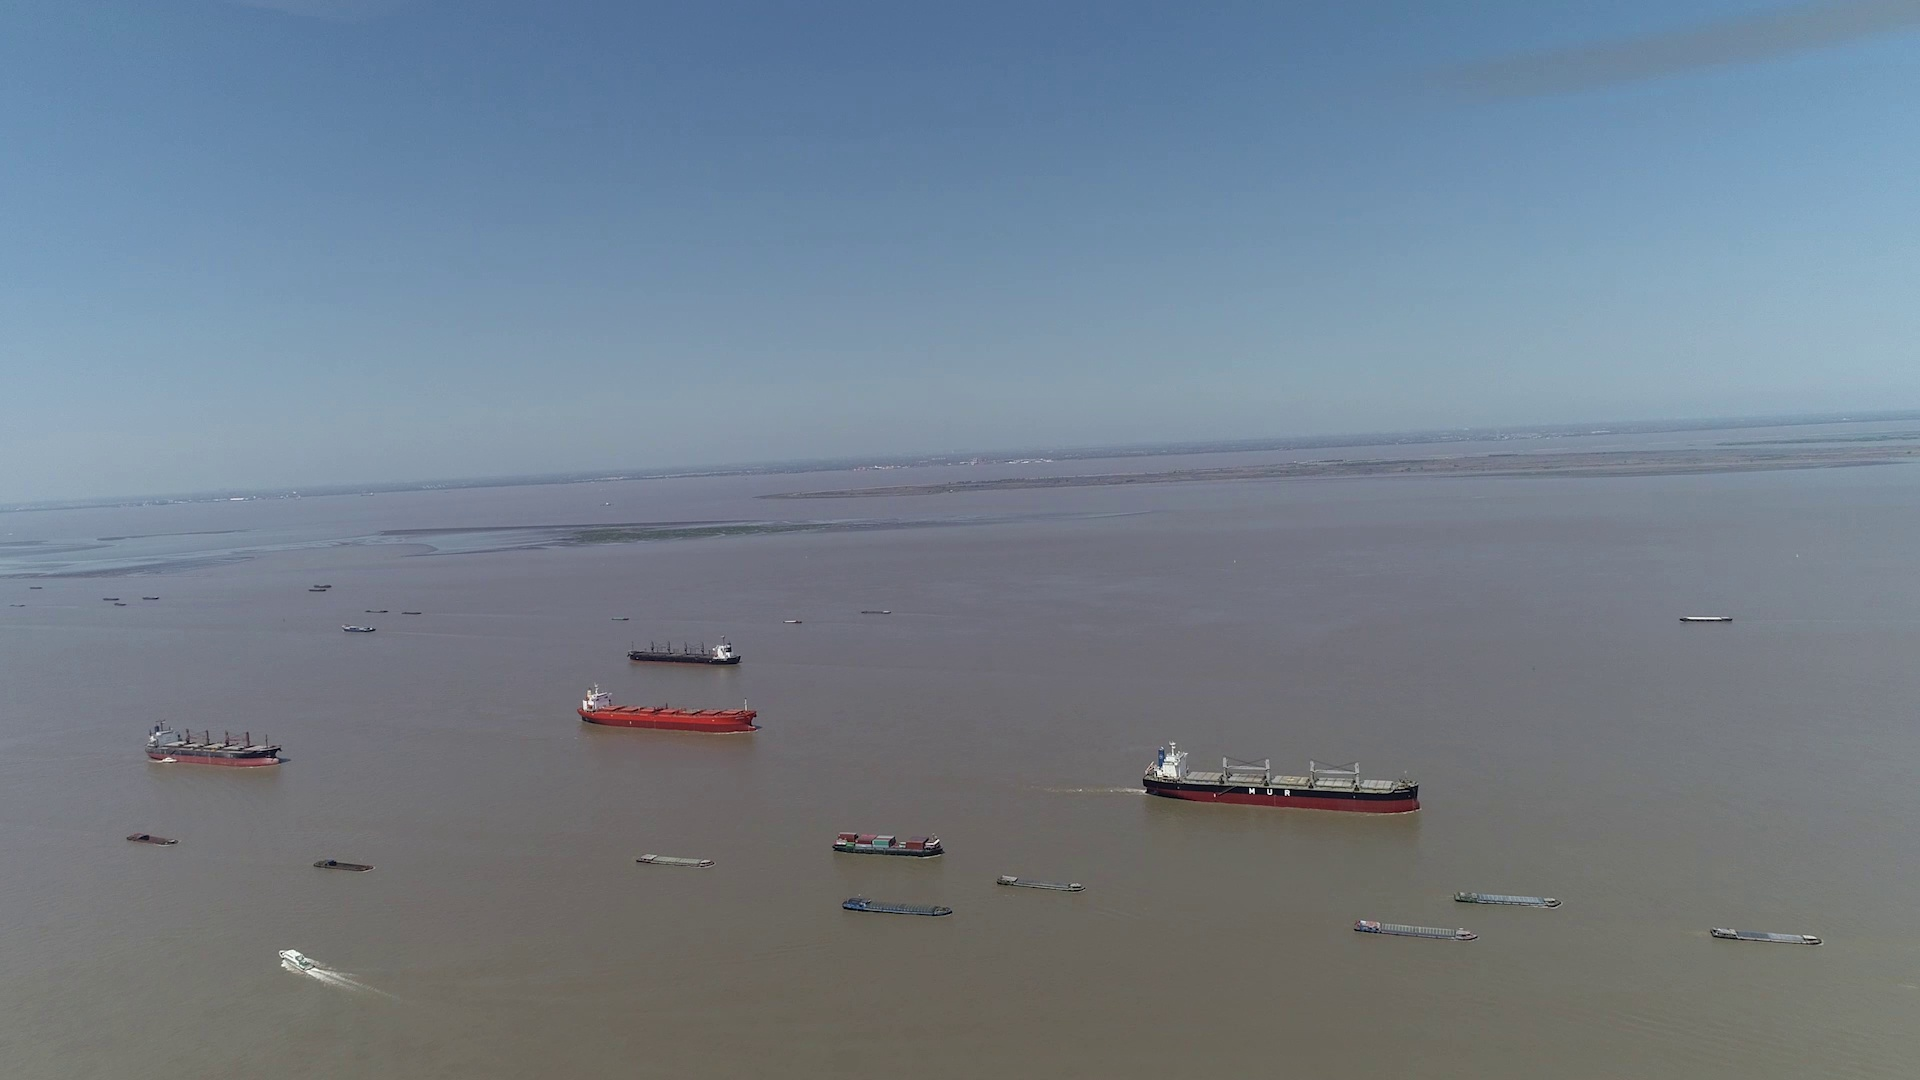ship: (1141, 742, 1423, 814), (578, 684, 753, 733), (145, 721, 281, 767), (829, 829, 945, 857), (1356, 918, 1478, 942), (625, 640, 738, 665), (1453, 887, 1563, 909), (843, 897, 952, 918), (1712, 926, 1822, 945), (996, 876, 1083, 893), (637, 853, 715, 866), (316, 858, 375, 872), (124, 832, 175, 845), (280, 949, 313, 968), (1677, 613, 1731, 622), (342, 622, 377, 632)
